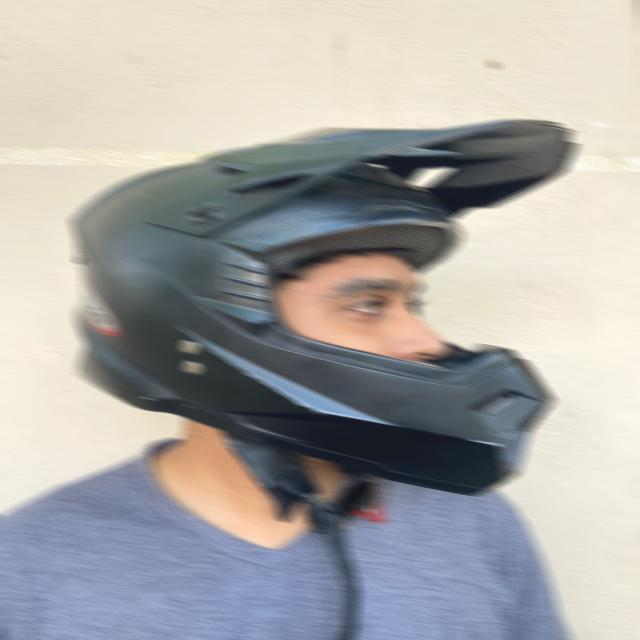With Helmet: (65, 118, 581, 495)
